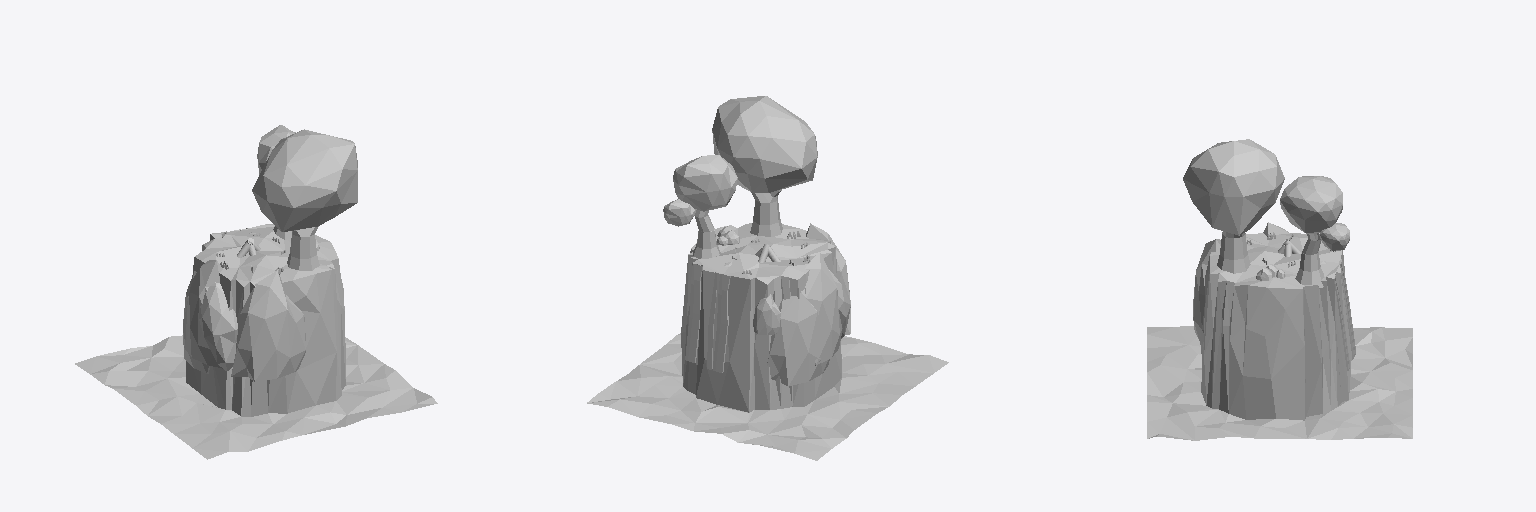
File: Island lp.obj
The picture shows the model from 3 angles: view 1: azimuth 30°, elevation 25°; view 2: azimuth 150°, elevation 25°; view 3: azimuth 270°, elevation 25°; orthographic projection.
Parts seen in each view (by area): view 1: Plane, Cylinder.001_Cylinder.005, Icosphere.004, Icosphere.005, Icosphere.003, Tree_Cylinder; view 2: Plane, Cylinder.001_Cylinder.005, Tree_Cylinder, Icosphere.006, Icosphere.003, Cube.010_Cube.011, Cube.011_Cube.012, Icosphere.007, Icosphere.004; view 3: Plane, Cylinder.001_Cylinder.005, Tree_Cylinder, Icosphere.004.
Boxes of the visible parts, x1,y1,x2,y2 form: Plane: [75, 224, 437, 459]; Cylinder.001_Cylinder.005: [252, 129, 357, 270]; Icosphere.004: [231, 270, 305, 381]; Icosphere.005: [199, 282, 237, 370]; Icosphere.003: [184, 260, 222, 368]; Tree_Cylinder: [257, 125, 295, 239]; Plane: [587, 223, 948, 460]; Cylinder.001_Cylinder.005: [712, 96, 817, 236]; Tree_Cylinder: [663, 155, 737, 258]; Icosphere.006: [767, 289, 829, 386]; Icosphere.003: [805, 251, 842, 365]; Cube.010_Cube.011: [707, 272, 730, 372]; Cube.011_Cube.012: [685, 264, 702, 362]; Icosphere.007: [753, 294, 780, 334]; Icosphere.004: [806, 223, 850, 334]; Plane: [1147, 233, 1412, 440]; Cylinder.001_Cylinder.005: [1183, 139, 1284, 273]; Tree_Cylinder: [1280, 176, 1349, 287]; Icosphere.004: [1193, 239, 1220, 343].
Size of the model in its own units: 72.31 by 78.25 by 72.25.